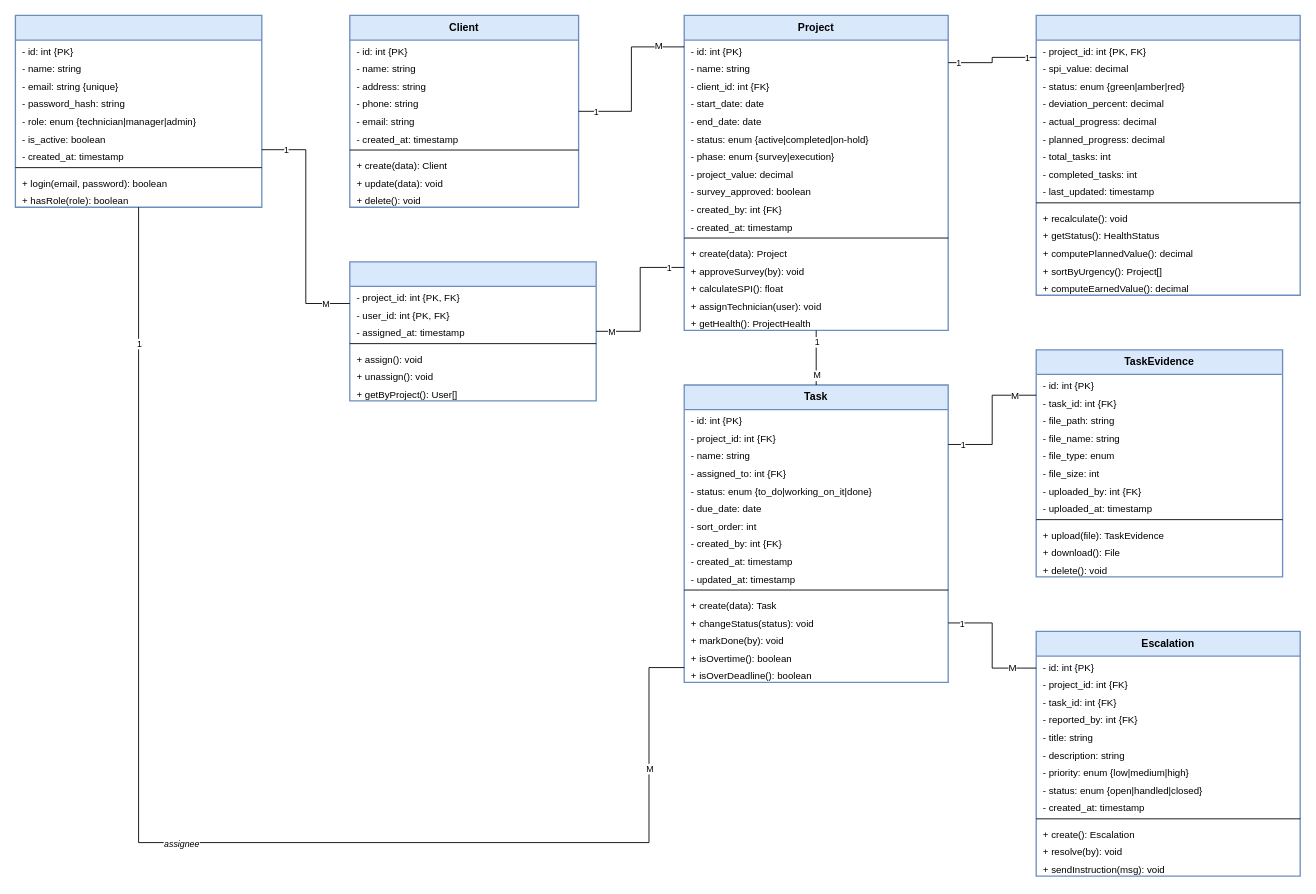
Image size: 1316x894. Some labels were removed from this diagram. The shapes that lost their labels are listed below. From the top down, each one's box as (x1, y1, x2, y2) in pixels, then its label:
(14, 14, 262, 208): User
(1035, 14, 1300, 296): ProjectHealth
(349, 261, 596, 401): ProjectAssignment
